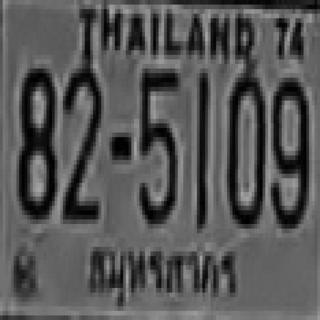N00: (224, 71, 263, 222)
N01: (194, 71, 208, 226)
N02: (62, 64, 100, 220)
N05: (138, 66, 176, 222)
N08: (16, 64, 55, 215)
N09: (268, 73, 306, 224)
P58: (83, 236, 244, 310)
